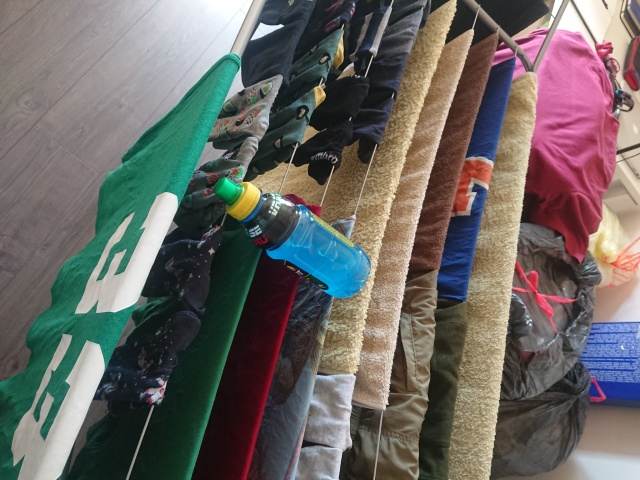Vindi Iso Sport Forest Strawberries 500mL: (213, 176, 373, 300)
